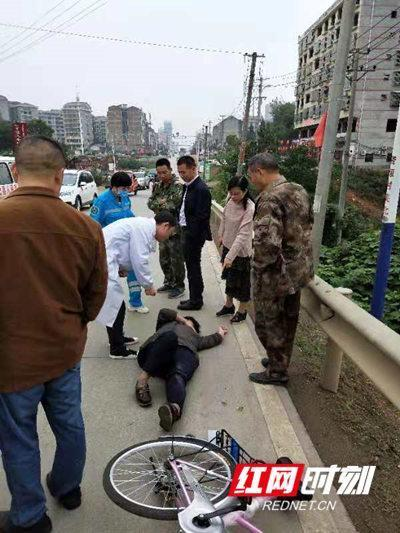Fall-Detected: (126, 294, 233, 440)
